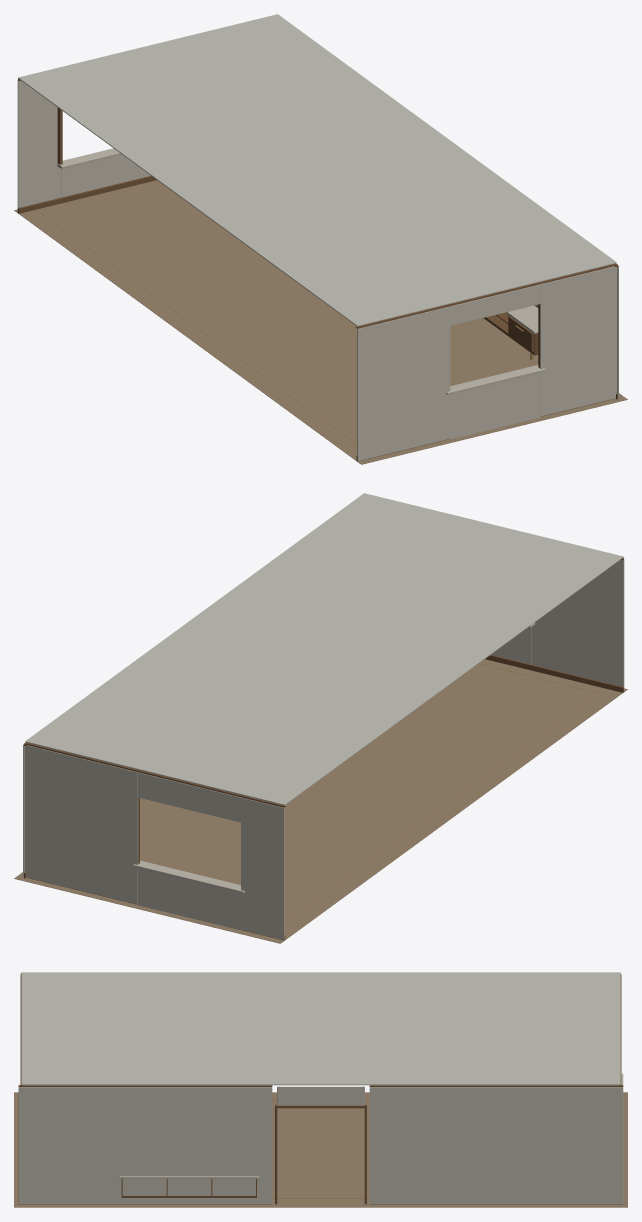
File: LivingRoomSlice.fbx
The picture shows the model from 3 angles, top to bottom: view 1: azimuth 30°, elevation 25°; view 2: azimuth 150°, elevation 25°; view 3: azimuth 270°, elevation 25°; orthographic projection. The views are drawn at different scales.
Parts seen in each view (by area): view 1: Slice_PLASTER_LOD0, Slice_FLOOR_LOD0, Slice_STONE_LOD0, Slice_WOOD_LOD0; view 2: Slice_PLASTER_LOD0, Slice_FLOOR_LOD0, Slice_STONE_LOD0, Slice_WOOD_LOD0; view 3: Slice_PLASTER_LOD0, Slice_STONE_LOD0, Slice_FLOOR_LOD0, Slice_WOOD_LOD0.
Boxes of the visible parts, x1=… form: Slice_PLASTER_LOD0: x1=18, y1=14, x2=616, y2=326; Slice_FLOOR_LOD0: x1=14, y1=180, x2=627, y2=464; Slice_STONE_LOD0: x1=17, y1=80, x2=618, y2=460; Slice_WOOD_LOD0: x1=18, y1=78, x2=618, y2=461; Slice_PLASTER_LOD0: x1=25, y1=493, x2=623, y2=805; Slice_FLOOR_LOD0: x1=14, y1=659, x2=627, y2=943; Slice_STONE_LOD0: x1=23, y1=559, x2=624, y2=939; Slice_WOOD_LOD0: x1=23, y1=557, x2=623, y2=940; Slice_PLASTER_LOD0: x1=21, y1=972, x2=620, y2=1085; Slice_STONE_LOD0: x1=18, y1=975, x2=623, y2=1203; Slice_FLOOR_LOD0: x1=14, y1=1092, x2=627, y2=1207; Slice_WOOD_LOD0: x1=18, y1=974, x2=623, y2=1204.
Size of what is drawn, in the model's own units: 620 by 303 by 1400.
